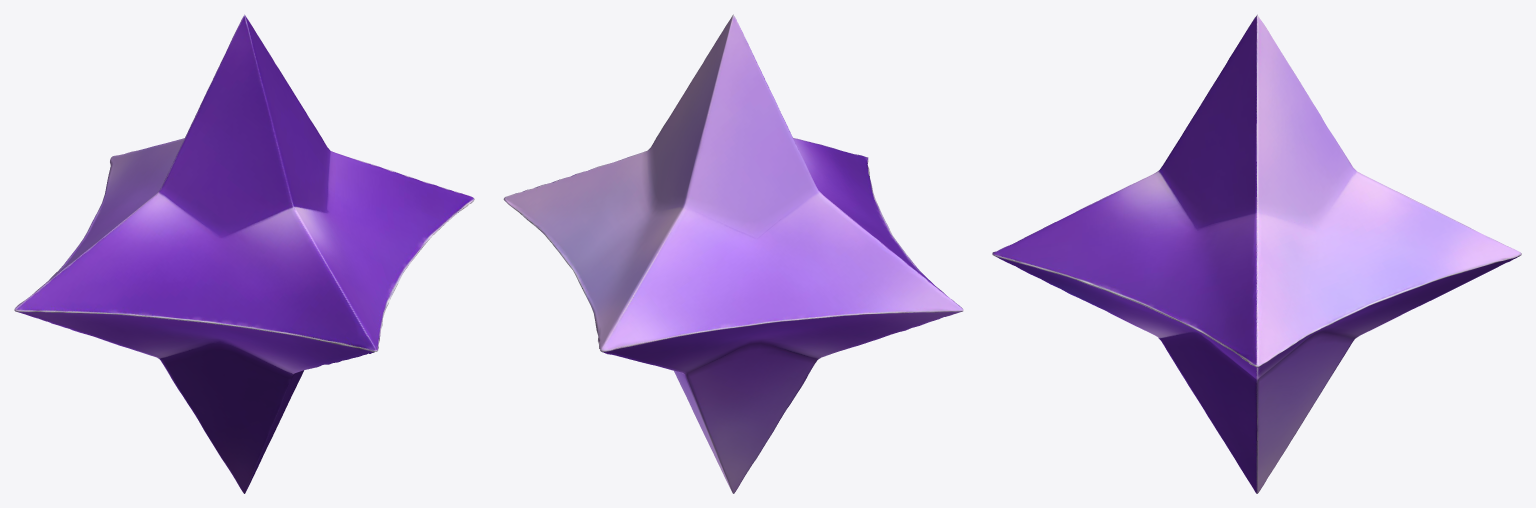
Rendered from violet_gem.glb.
The picture shows the model from 3 angles, left to right: view 1: azimuth 30°, elevation 25°; view 2: azimuth 150°, elevation 25°; view 3: azimuth 270°, elevation 25°; orthographic projection.
Visible parts, largest first — view 1: tripo_node_0c24acea; view 2: tripo_node_0c24acea; view 3: tripo_node_0c24acea.
Boxes of the visible parts, x1,y1,x2,y2 form: tripo_node_0c24acea: [14, 14, 474, 493]; tripo_node_0c24acea: [503, 14, 963, 493]; tripo_node_0c24acea: [992, 14, 1521, 493].
Size of the model in its own units: 99.99 by 99.81 by 99.72.
Materials: 1 (1 with a texture image).
